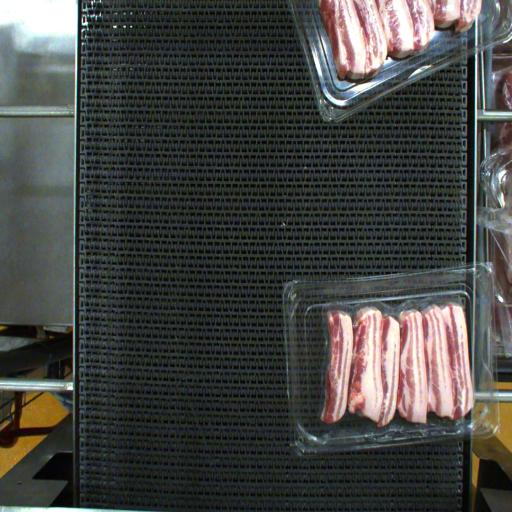unsealed: (315, 283, 477, 437)
